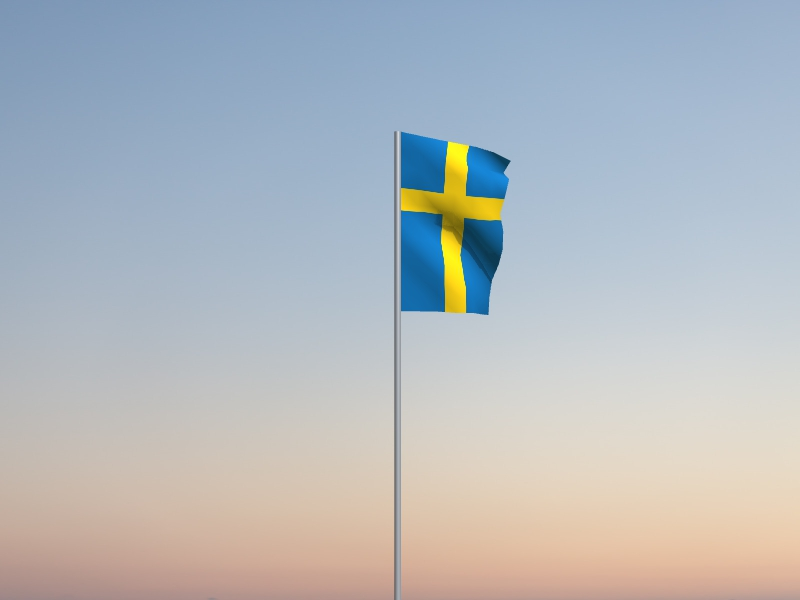se: (401, 133, 512, 316)
